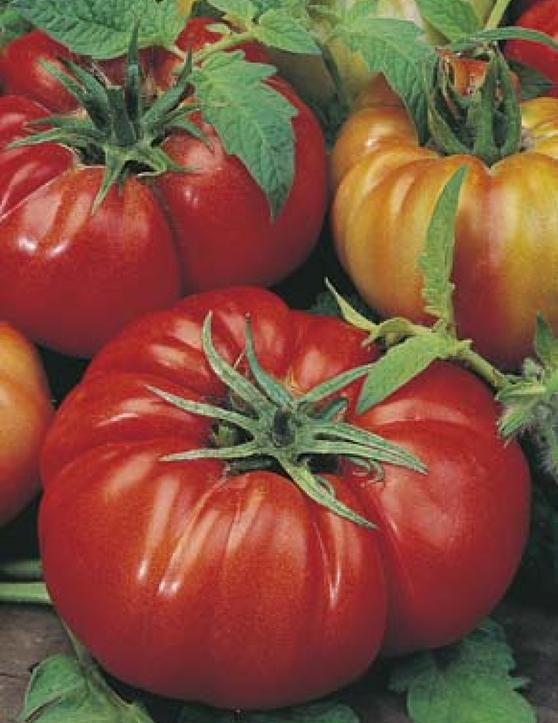tomato: (38, 285, 527, 713), (8, 21, 336, 354)
